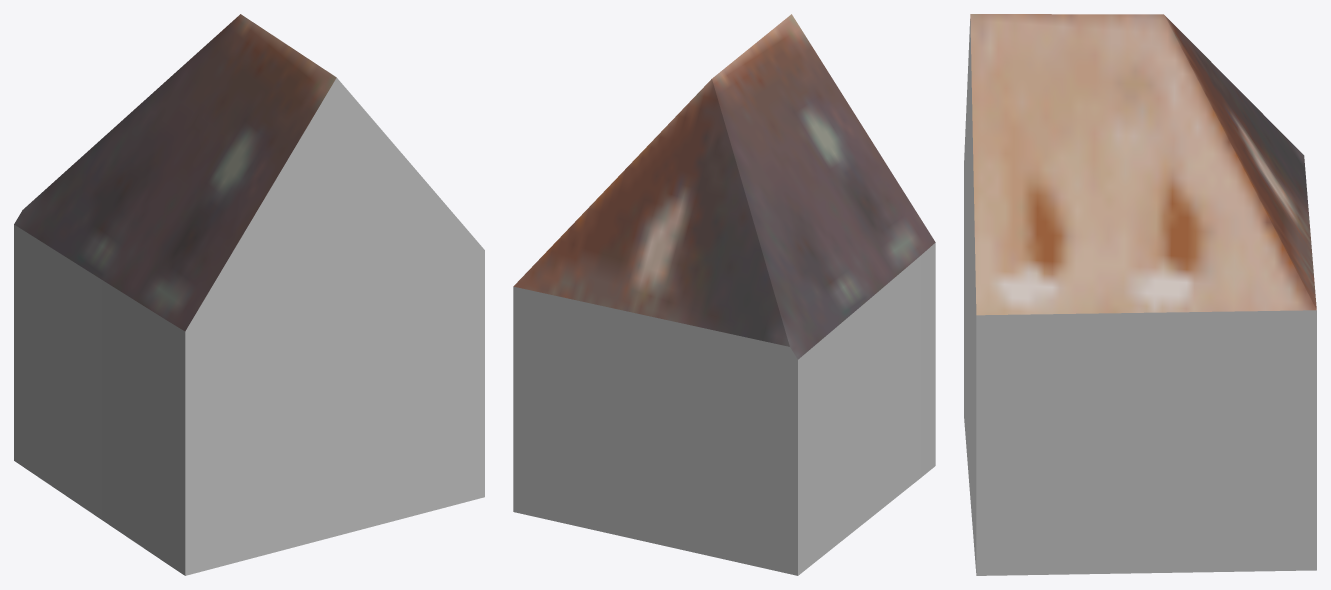
The model's file is DEBW_0010007Txch.gltf.
3 views of the same model, side by side, from view 1: azimuth 30°, elevation 25°; view 2: azimuth 150°, elevation 25°; view 3: azimuth 270°, elevation 25° (orthographic). The views are drawn at different scales.
Visible parts, largest first — view 1: Z_UP; view 2: Z_UP; view 3: Z_UP.
Part boxes in pixels (bbox=[...]): Z_UP: bbox=[14, 14, 484, 575]; Z_UP: bbox=[513, 14, 935, 575]; Z_UP: bbox=[964, 14, 1316, 575].
Bounding box in the file's own units: 9.76 × 13.54 × 8.94.
2 materials, 1 textured.
